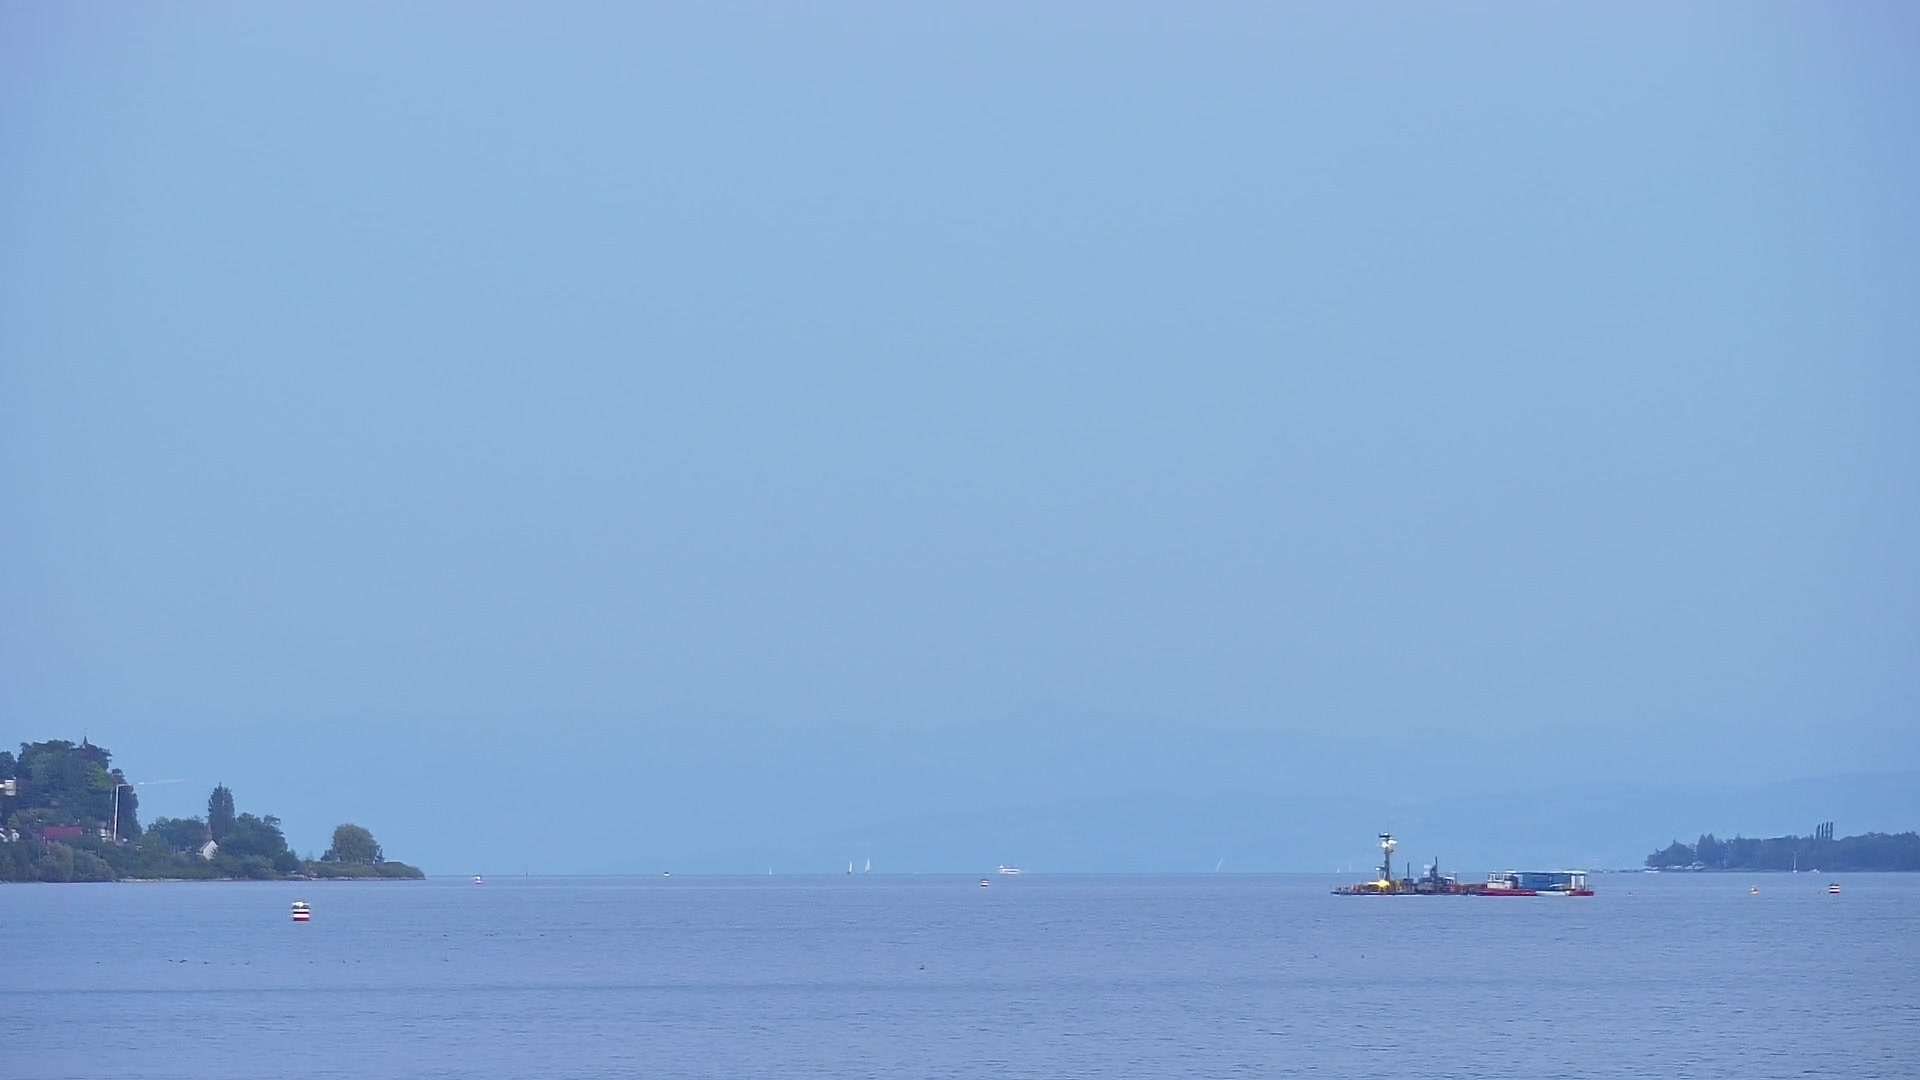sea: (1000, 862, 1021, 876), (862, 853, 872, 874), (1789, 855, 1797, 874), (847, 857, 853, 876), (1809, 866, 1820, 876), (663, 870, 671, 876), (767, 866, 771, 876)
